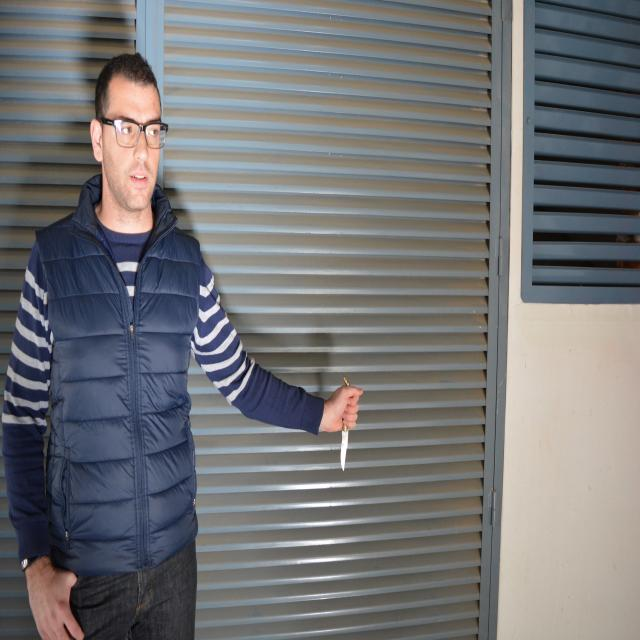knife: (337, 424, 358, 481)
